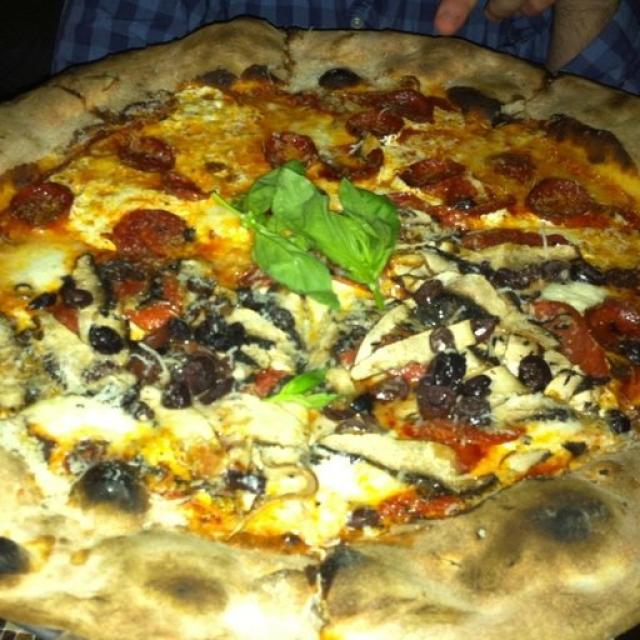Basil: (238, 164, 394, 308), (278, 367, 330, 405)
Mushrooms: (323, 436, 497, 494), (442, 272, 559, 344), (411, 212, 584, 259), (238, 397, 318, 497), (346, 300, 422, 379), (25, 311, 86, 391), (490, 373, 574, 424), (233, 311, 296, 369), (78, 256, 109, 312)
Olives: (421, 361, 486, 422), (514, 262, 640, 284), (176, 362, 223, 404), (423, 284, 468, 321), (37, 279, 89, 306), (87, 328, 122, 352), (524, 358, 550, 387), (323, 434, 324, 435)
Pepperoni: (540, 300, 609, 378), (348, 90, 433, 136), (112, 213, 188, 256), (403, 157, 475, 193), (588, 301, 640, 346), (17, 182, 72, 224), (121, 136, 172, 170), (324, 151, 386, 178), (533, 183, 586, 213), (272, 131, 314, 166), (161, 174, 211, 200), (491, 154, 532, 180)
Pizza: (0, 18, 640, 640)
